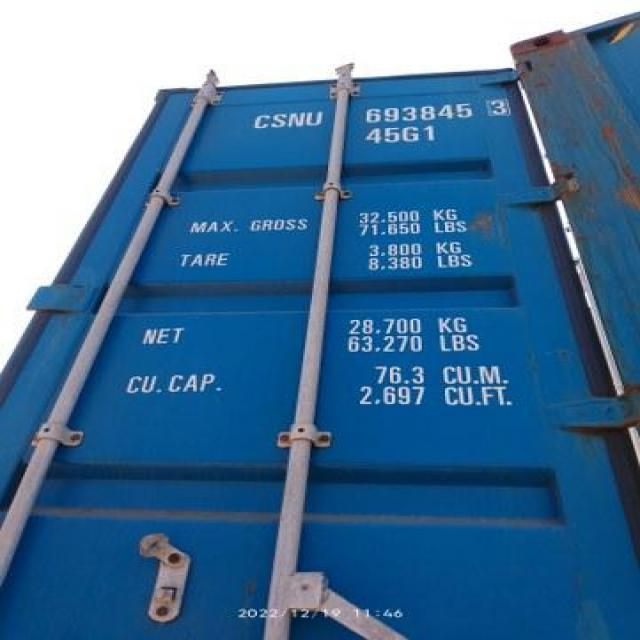container_number_h: (244, 89, 545, 173)
